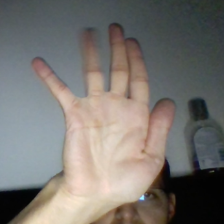left: (30, 16, 177, 205)
